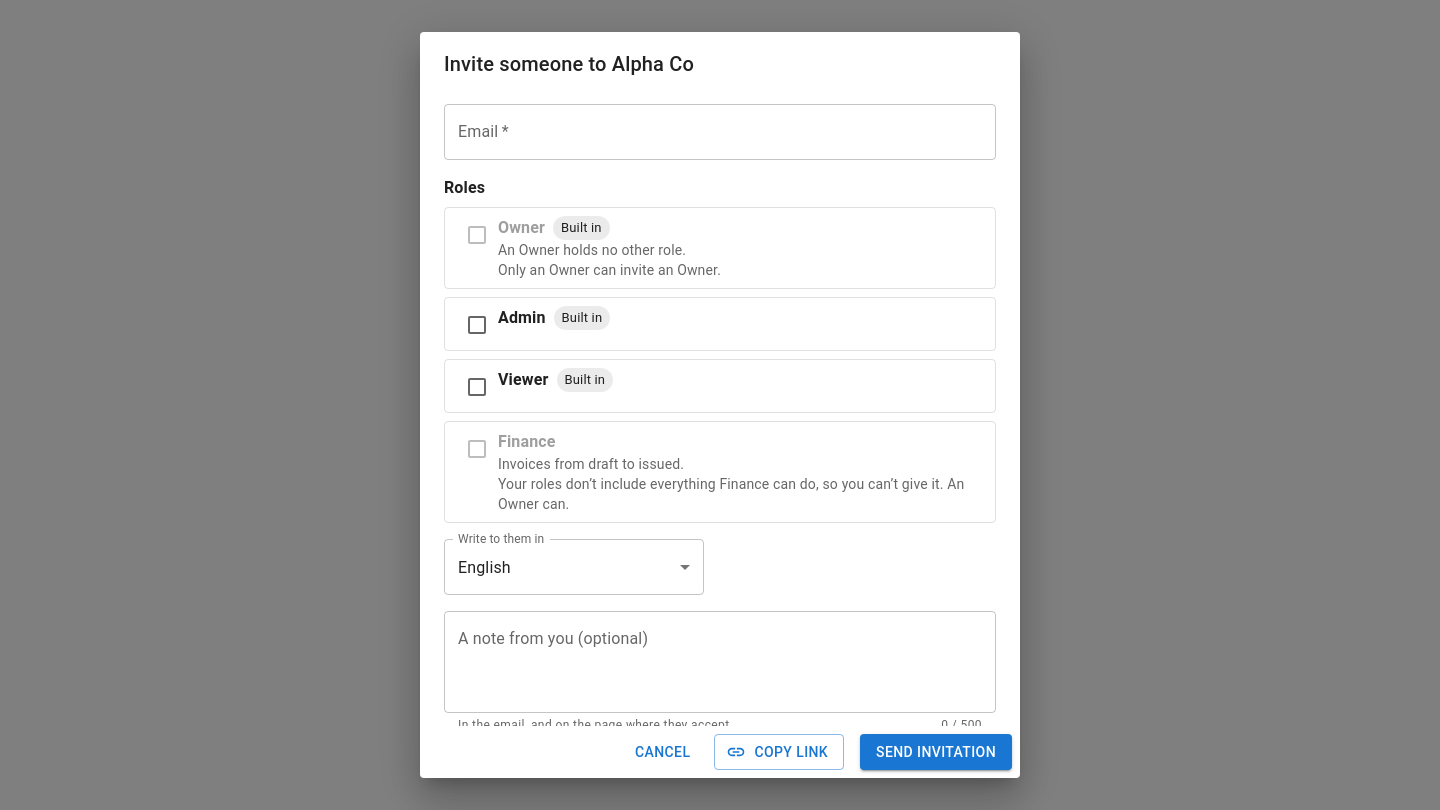
Scenario: InviteDialog (ADR-077) › offers an Admin no Resend on an Owner’s invitation, and says why
Click the checkbox labelled "Viewer".
click(523, 380)  # box [444,359,996,413]
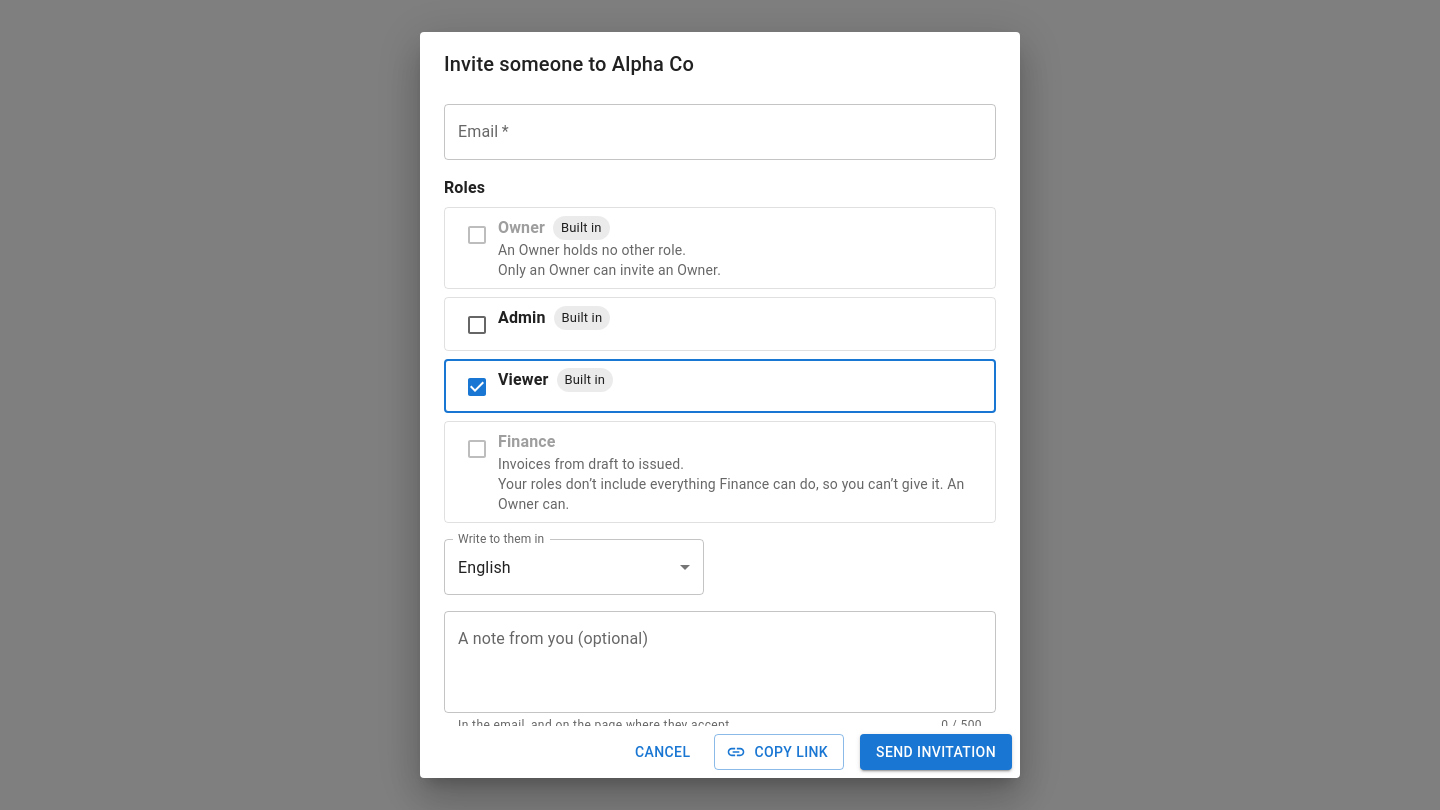
Type "sam@example.com" into the field labelled "Email".
click(720, 132); type("sam@example.com")  # box [444,104,996,160]
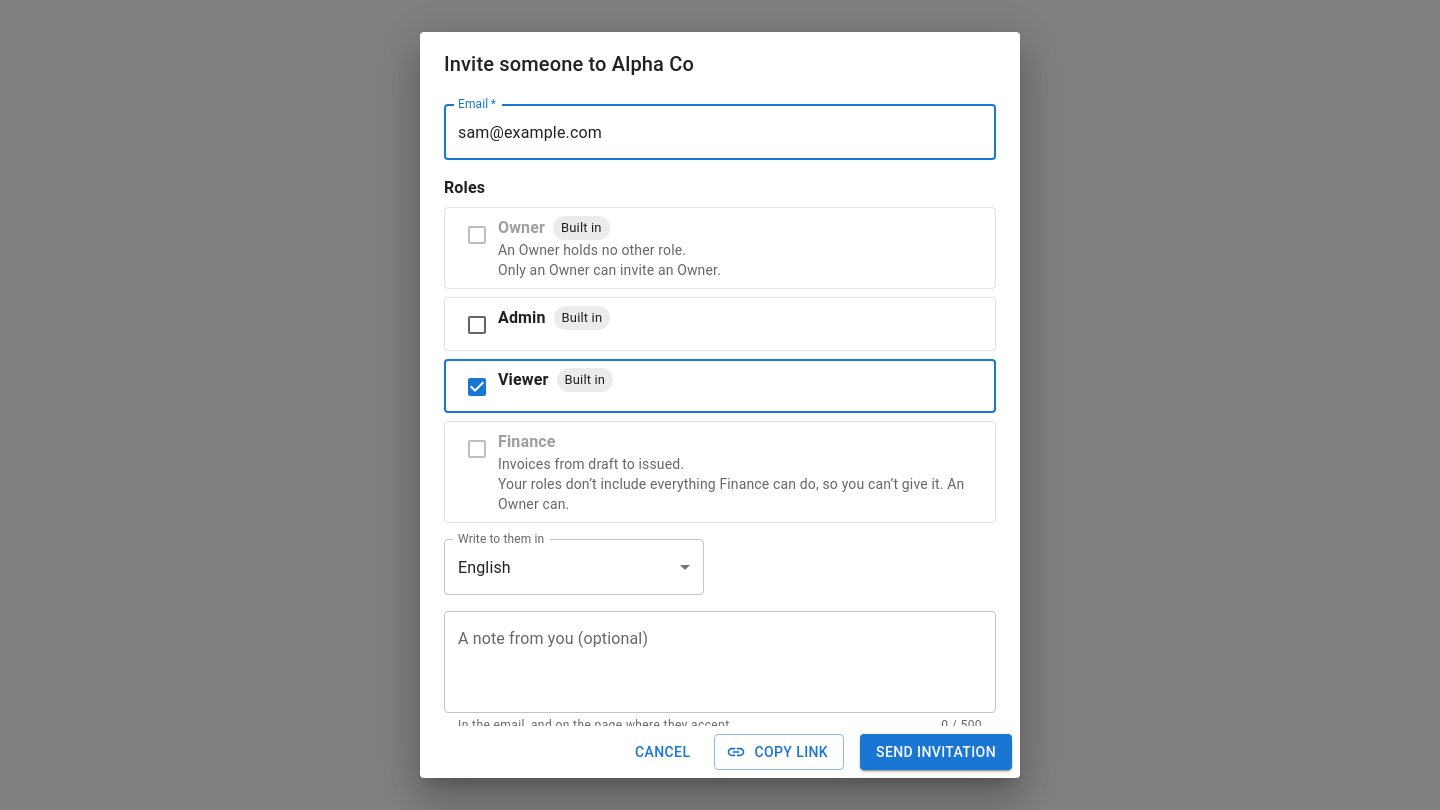
Click the button "Send invitation".
click(936, 752)  # box [860,734,1012,770]
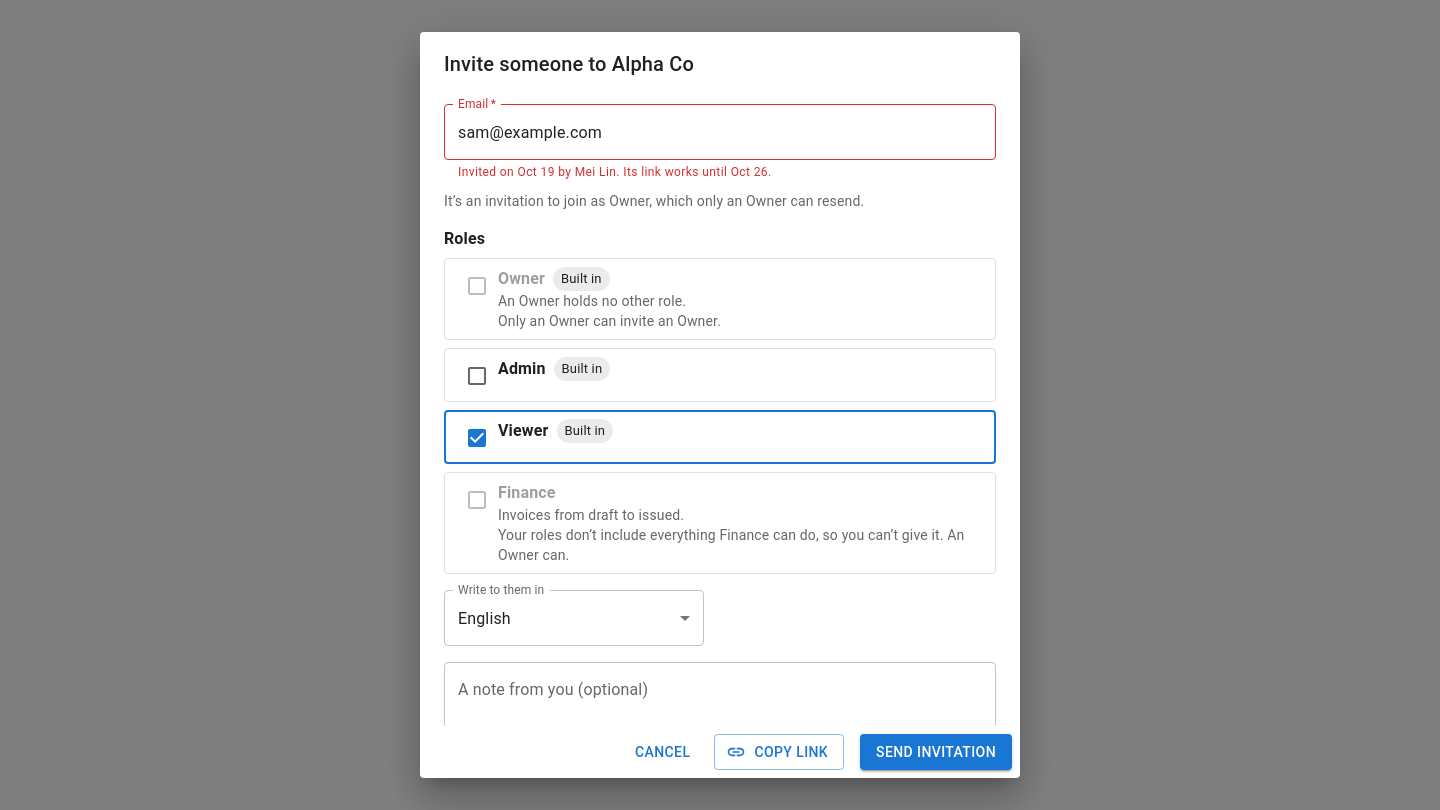
Result: the text "It’s an invitation to join as Owner, which only an Owner can resend." is shown at [444,193,864,209]
